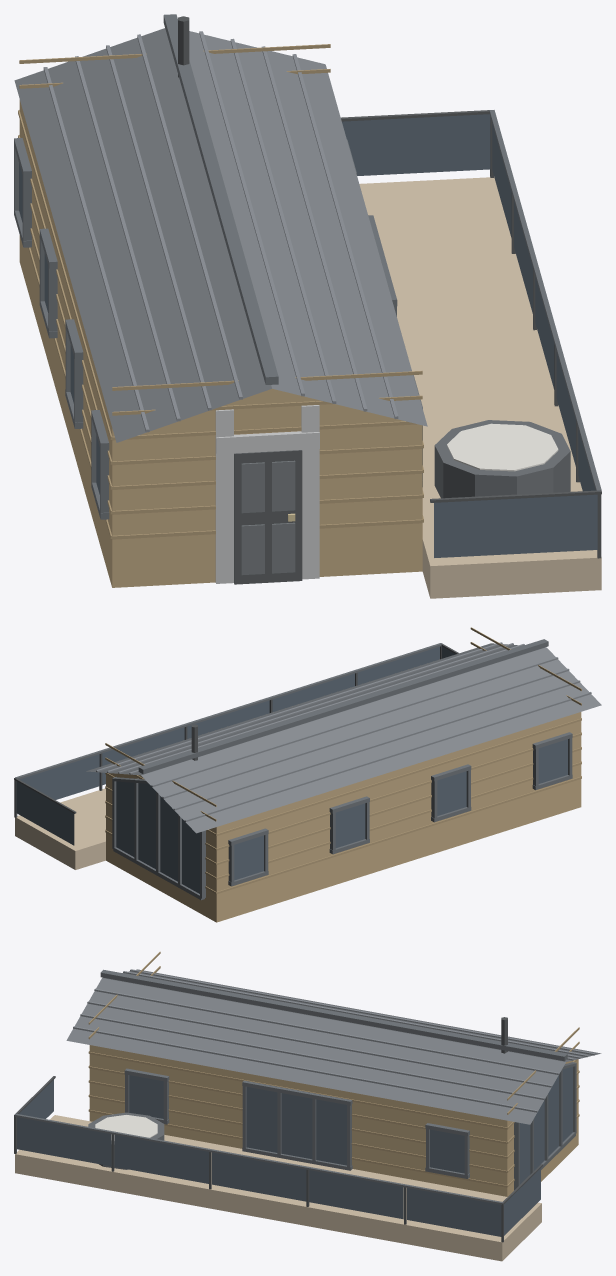
3 renders of one model, top to bottom at view 1: azimuth 30°, elevation 25°; view 2: azimuth 150°, elevation 25°; view 3: azimuth 270°, elevation 25°, orthographic. The views are drawn at different scales.
Parts seen in each view (by area): view 1: slate, larch, door_wood, slate_dk, slate_lt, door_wood_p, window_glass_006, window_glass_007, stone_band, band_dark, door_dark_p, door_dark (+6 smaller); view 2: slate, door_wood, slate_dk, slate_lt, window_glass_013, door_wood_p, larch, window_glass_005, window_glass_007, window_glass_004, window_glass_015, window_glass_001 (+6 smaller); view 3: slate, door_wood, larch, slate_dk, slate_lt, door_wood_p, window_glass_003, window_glass_005, window_glass_001, window_glass_002, window_glass_004, window_glass_013 (+10 smaller).
Boxes of the visible parts, left/top/right/bottom form: slate: left=14, top=28, right=427, bottom=442; larch: left=359, top=177, right=601, bottom=598; door_wood: left=19, top=100, right=422, bottom=587; slate_dk: left=14, top=14, right=601, bottom=519; slate_lt: left=43, top=31, right=398, bottom=432; door_wood_p: left=18, top=44, right=423, bottom=539; window_glass_006: left=434, top=494, right=597, bottom=557; window_glass_007: left=342, top=114, right=490, bottom=175; stone_band: left=215, top=405, right=319, bottom=583; band_dark: left=434, top=420, right=570, bottom=498; door_dark_p: left=241, top=460, right=295, bottom=575; door_dark: left=234, top=450, right=302, bottom=584; slate: left=86, top=643, right=601, bottom=833; door_wood: left=106, top=712, right=581, bottom=922; slate_dk: left=15, top=639, right=572, bottom=900; slate_lt: left=96, top=642, right=591, bottom=821; window_glass_013: left=116, top=781, right=199, bottom=893; door_wood_p: left=105, top=627, right=581, bottom=893; larch: left=15, top=788, right=105, bottom=869; window_glass_005: left=19, top=754, right=99, bottom=799; window_glass_007: left=16, top=781, right=74, bottom=845; window_glass_004: left=102, top=727, right=184, bottom=785; window_glass_015: left=335, top=803, right=365, bottom=848; window_glass_001: left=357, top=646, right=439, bottom=685; slate: left=66, top=969, right=601, bottom=1124; door_wood: left=89, top=1045, right=578, bottom=1196; larch: left=15, top=1115, right=541, bottom=1261; slate_dk: left=15, top=969, right=576, bottom=1204; slate_lt: left=73, top=969, right=595, bottom=1112; door_wood_p: left=88, top=951, right=579, bottom=1187; window_glass_003: left=212, top=1152, right=306, bottom=1201; window_glass_005: left=407, top=1188, right=501, bottom=1236; window_glass_001: left=17, top=1117, right=111, bottom=1166; window_glass_002: left=114, top=1135, right=208, bottom=1183; window_glass_004: left=309, top=1170, right=403, bottom=1219; window_glass_013: left=520, top=1067, right=572, bottom=1184.
Bounding box in the file's own units: 11.08 × 4.06 × 13.98.
